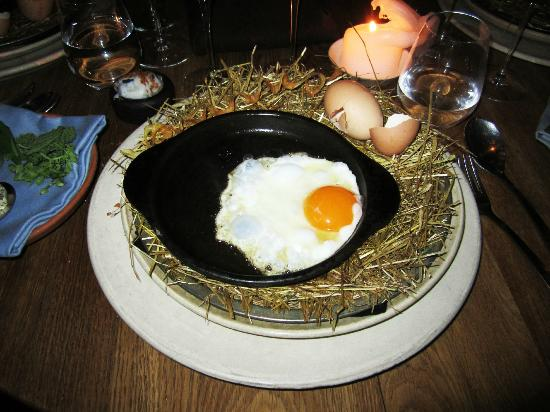fried egg: (216, 153, 352, 253)
glass of water: (420, 22, 471, 119)
